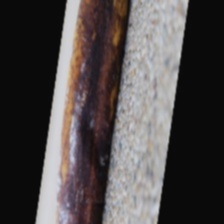banana: (11, 46, 177, 199)
